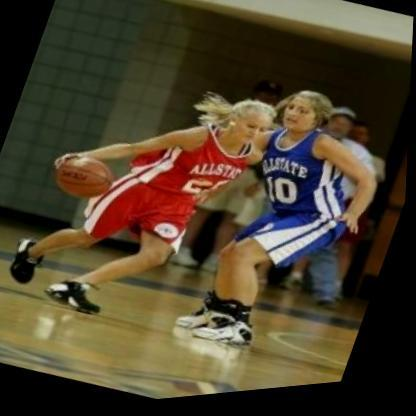basketball: (50, 141, 122, 213)
